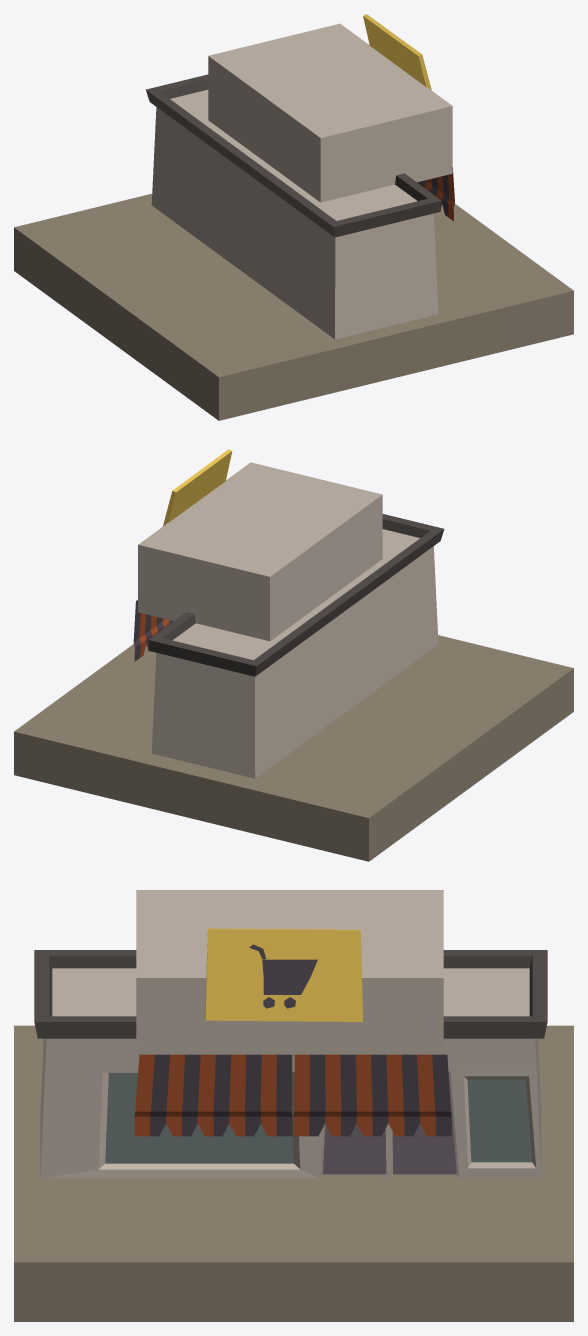
Rendered from Comercio Grande.fbx.
3 renders of one model, top to bottom at view 1: azimuth 30°, elevation 25°; view 2: azimuth 150°, elevation 25°; view 3: azimuth 270°, elevation 25°, orthographic. The views are drawn at different scales.
Parts seen in each view (by area): view 1: Comércio Grande; view 2: Comércio Grande; view 3: Comércio Grande.
Boxes of the visible parts, <box> form: Comércio Grande: <box>14,14,573,420</box>; Comércio Grande: <box>14,449,573,861</box>; Comércio Grande: <box>14,890,573,1321</box>.
Size of the model in its own units: 200 by 133 by 200.
